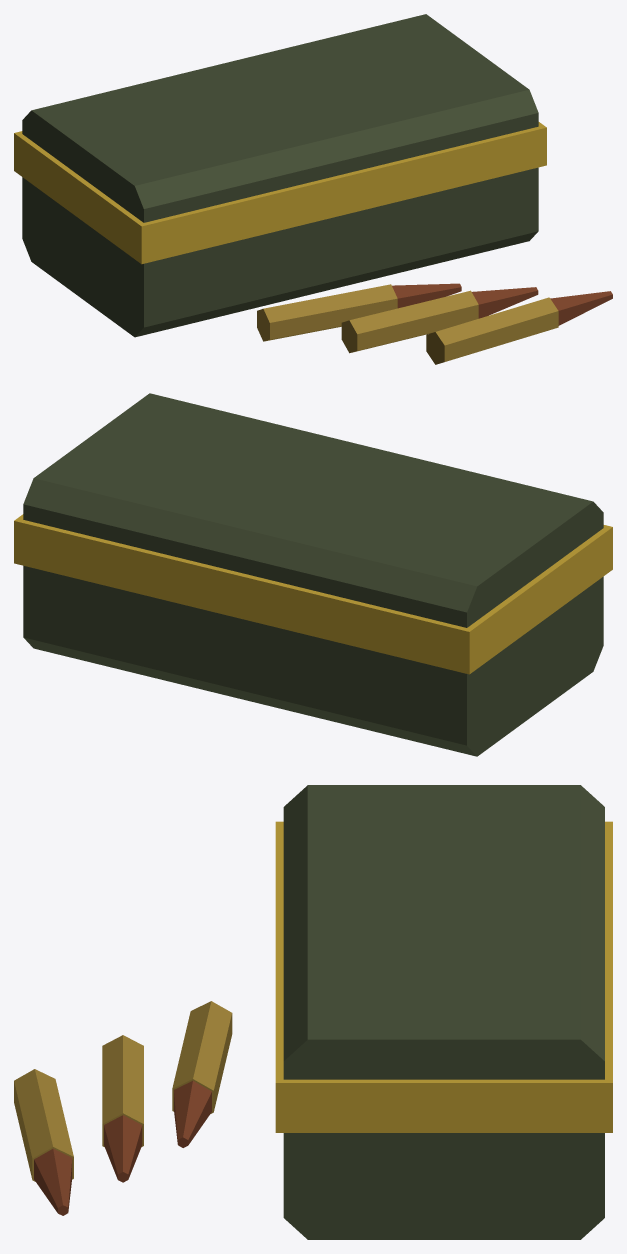
File: ammo_box_308.glb
The picture shows the model from 3 angles, top to bottom: view 1: azimuth 30°, elevation 25°; view 2: azimuth 150°, elevation 25°; view 3: azimuth 270°, elevation 25°; orthographic projection. The views are drawn at different scales.
Visible parts, largest first — view 1: Item; view 2: Item; view 3: Item.
Part boxes in pixels (bbox=[...]): Item: bbox=[14, 14, 612, 364]; Item: bbox=[14, 393, 612, 756]; Item: bbox=[14, 785, 612, 1239].
Size of the model in its own units: 0.2002 by 0.0715 by 0.1939.
